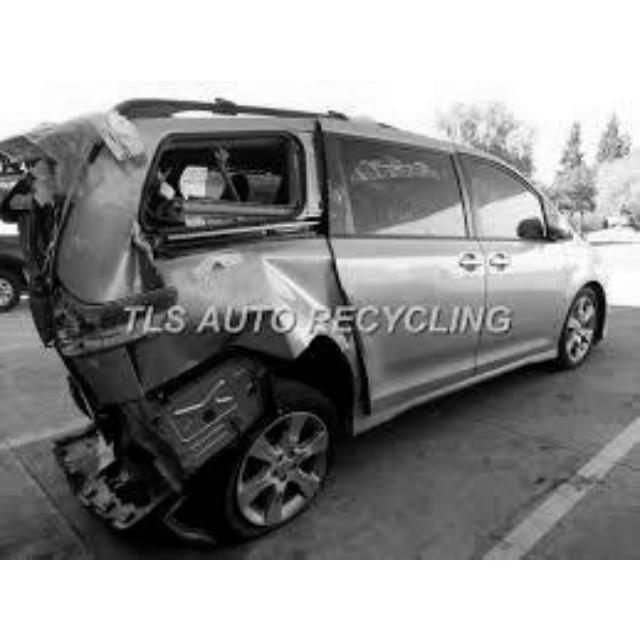quaterpanel-dent: (194, 255, 359, 381)
